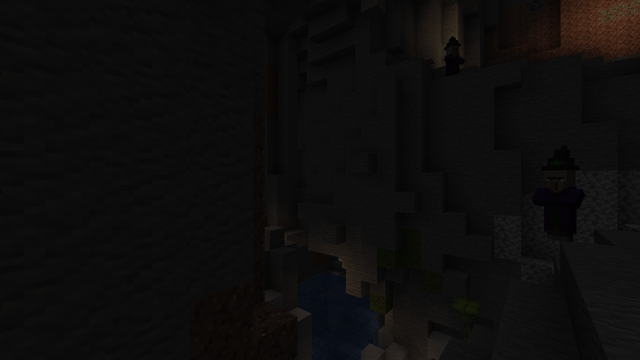sorcieres: (544, 167, 575, 243), (445, 42, 459, 75)
